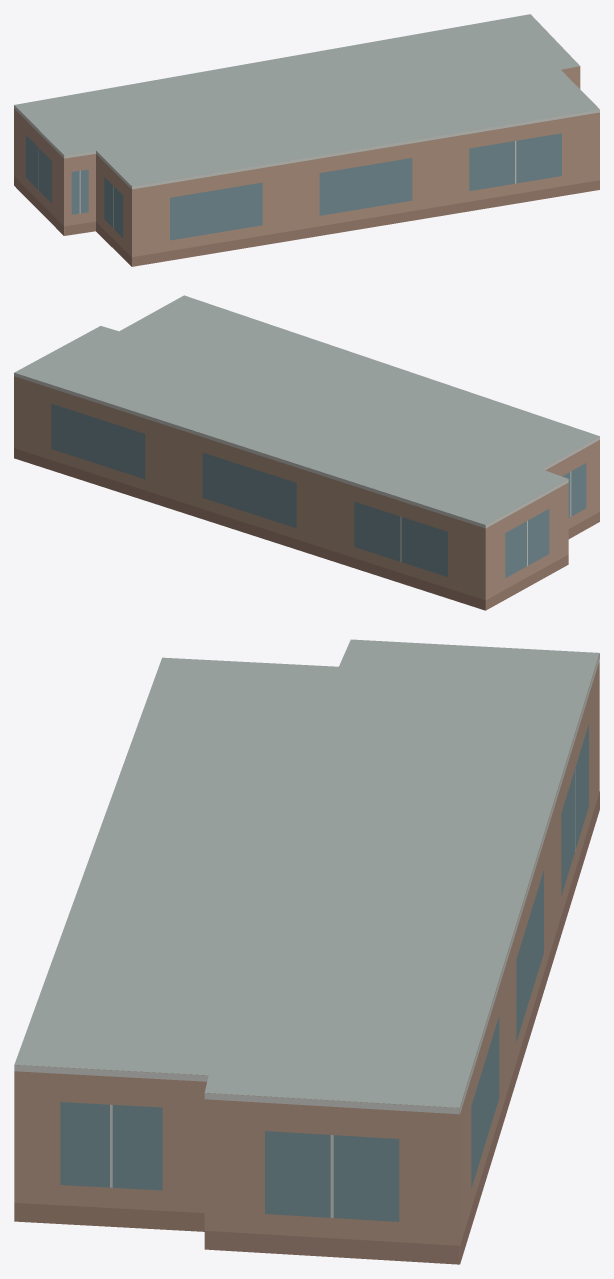
File: survey-upis-32605958.glb
3 views of the same model, one above another, from view 1: azimuth 30°, elevation 25°; view 2: azimuth 150°, elevation 25°; view 3: azimuth 270°, elevation 25° (orthographic). The views are drawn at different scales.
Parts seen in each view (by area): view 1: survey-upis-32605958.tmp; view 2: survey-upis-32605958.tmp; view 3: survey-upis-32605958.tmp.
Boxes of the visible parts, x1=… form: survey-upis-32605958.tmp: x1=14, y1=14, x2=599, y2=266; survey-upis-32605958.tmp: x1=14, y1=295, x2=599, y2=610; survey-upis-32605958.tmp: x1=14, y1=639, x2=599, y2=1264.
Size of the model in its own units: 19.58 by 3.05 by 10.34.
